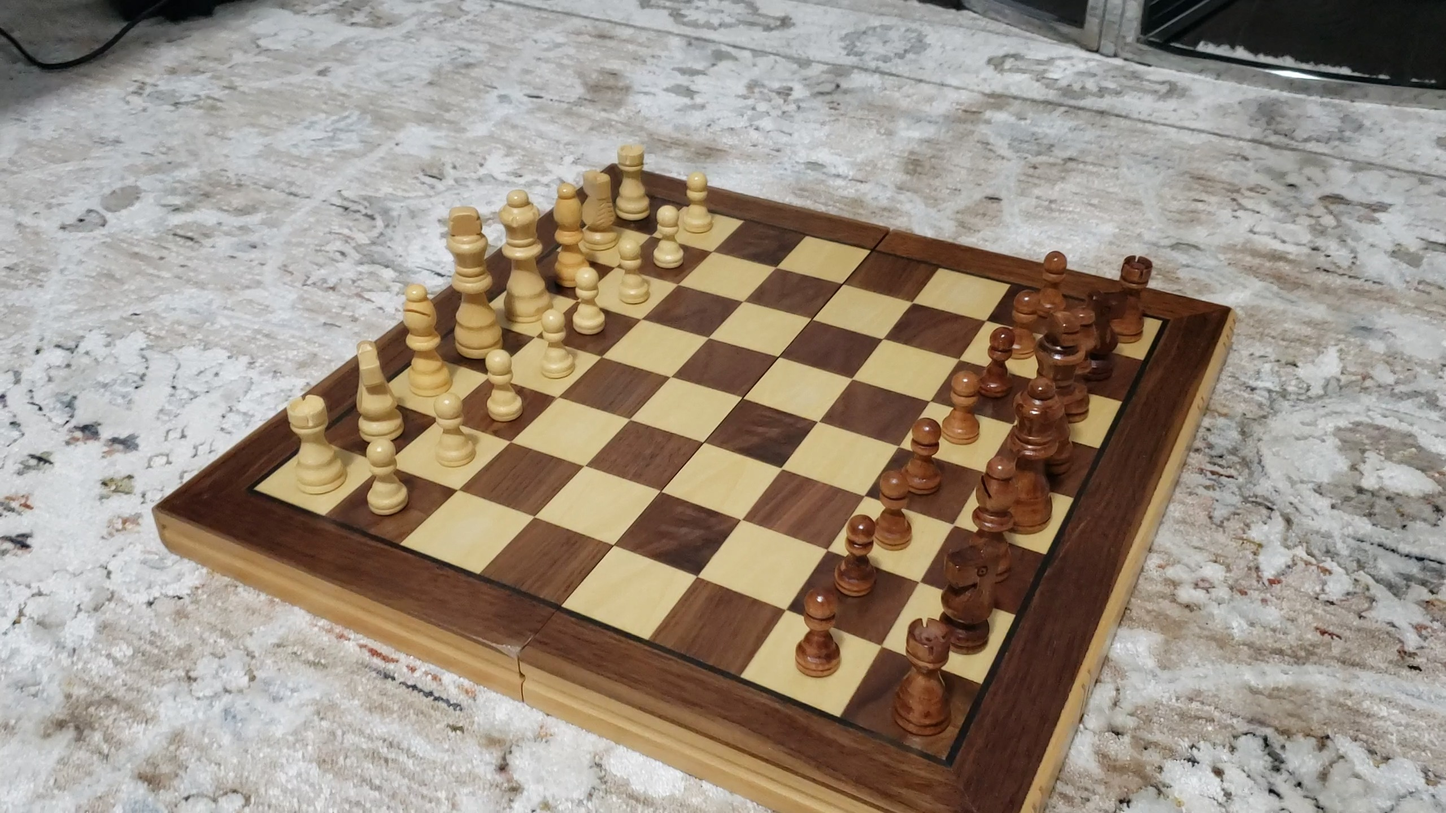black-bishop: (966, 450, 1025, 571)
black-king: (1025, 301, 1091, 402)
black-knight: (938, 544, 998, 654)
black-pawn: (796, 586, 841, 678), (1004, 273, 1046, 358), (836, 514, 879, 593), (873, 470, 915, 549), (1031, 241, 1079, 305), (903, 419, 943, 493), (975, 327, 1014, 399), (942, 374, 980, 445)
black-rook: (892, 620, 953, 736), (1099, 251, 1159, 344)
white-bishop: (391, 279, 449, 395), (541, 173, 590, 290)
white-king: (440, 201, 502, 366)
white-knight: (333, 333, 415, 447), (580, 169, 618, 252)
white-pawn: (529, 298, 581, 390), (359, 436, 414, 516), (433, 389, 476, 467), (484, 347, 523, 422), (615, 229, 650, 310), (572, 264, 604, 337), (652, 207, 684, 271), (681, 171, 713, 233)
white-queen: (494, 186, 555, 326)
white-rook: (280, 394, 348, 497), (608, 135, 659, 222)
